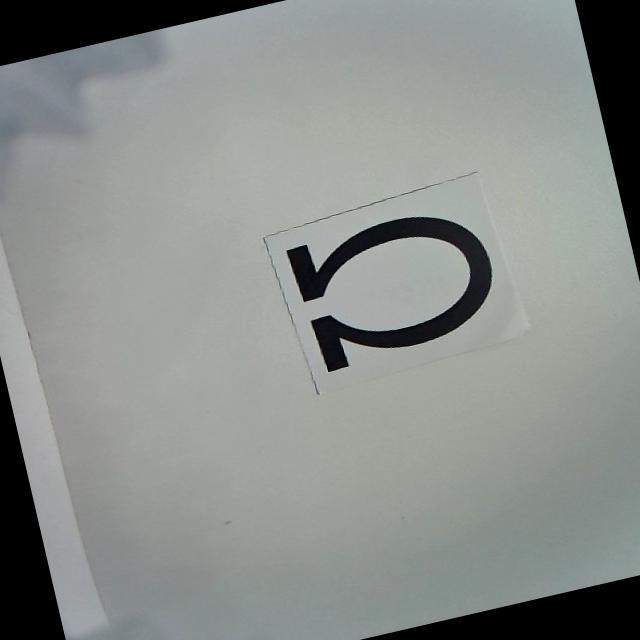OM: (283, 197, 510, 375)
